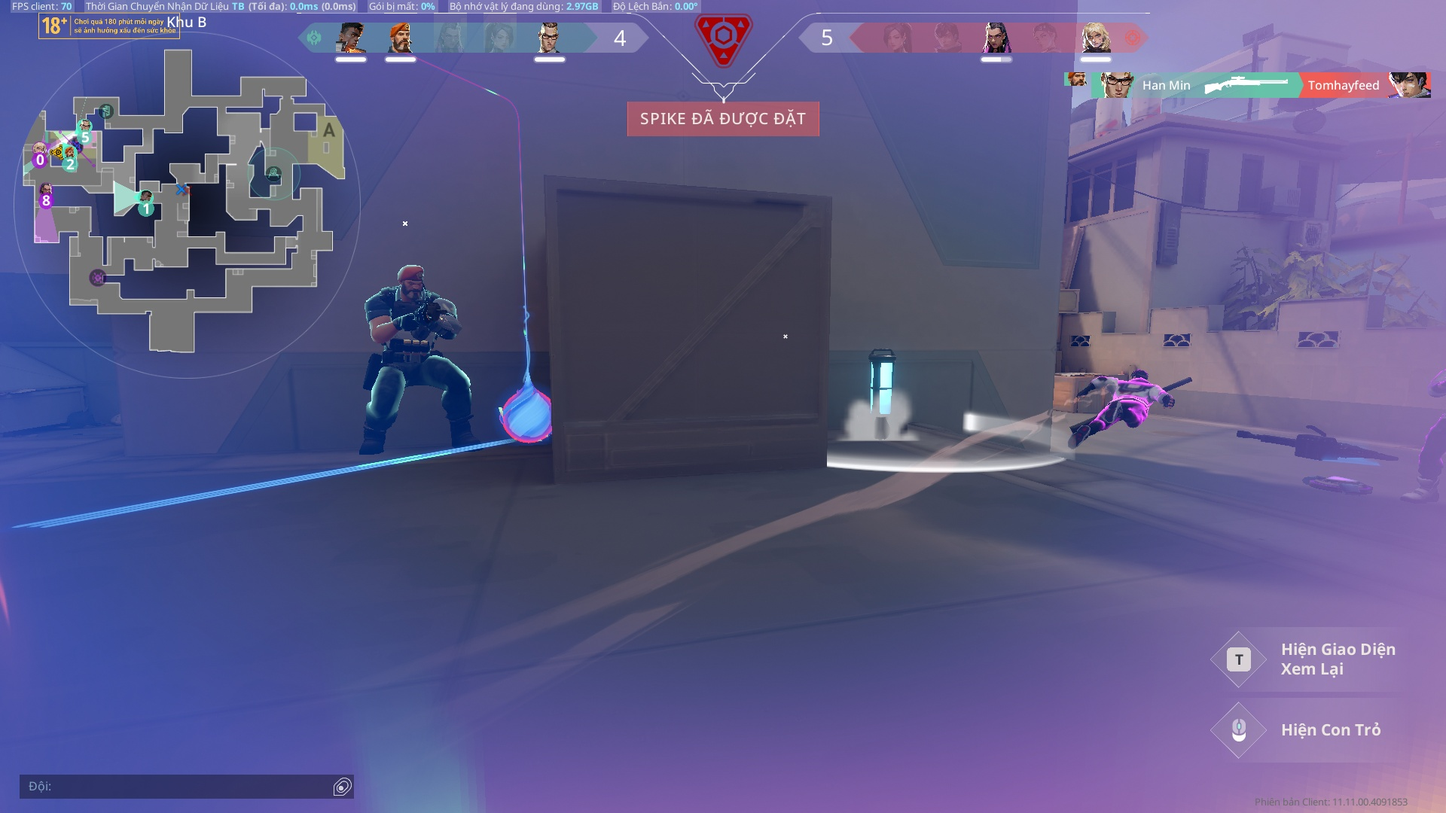body: (1113, 372, 1153, 406)
head: (1133, 368, 1149, 382)
